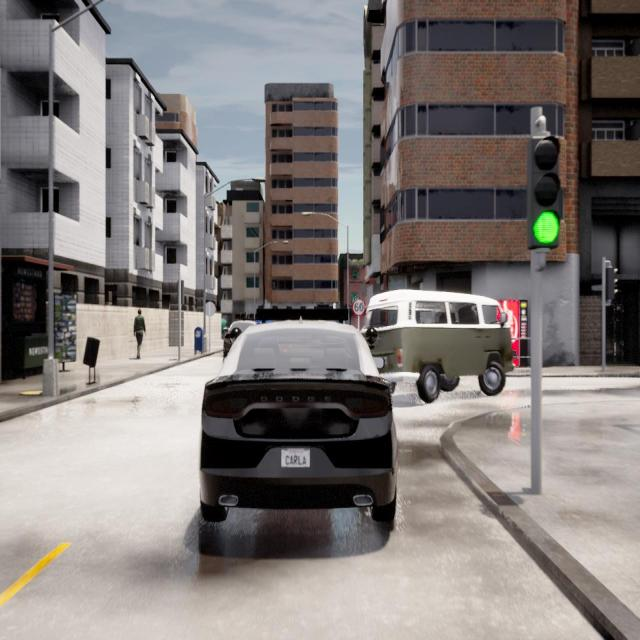Pedestrian: (133, 308, 145, 358)
Traffic_Signs: (353, 299, 363, 314), (206, 302, 215, 315)
Vehicle: (199, 323, 397, 520), (368, 292, 511, 399), (224, 322, 253, 354)
traffic_light: (529, 138, 561, 246), (606, 269, 618, 299), (180, 281, 184, 305)
